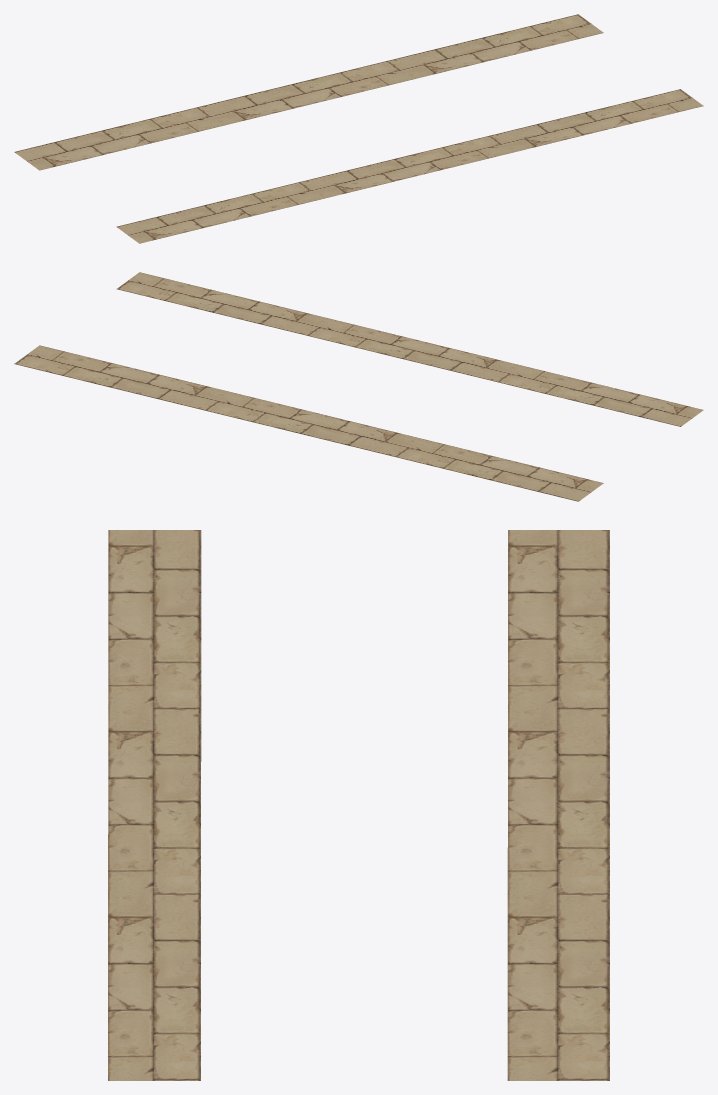
Rendered from Ground20_Build_LostTemple_002.FBX.
3 renders of one model, top to bottom at view 1: azimuth 30°, elevation 25°; view 2: azimuth 150°, elevation 25°; view 3: azimuth 270°, elevation 25°, orthographic. The views are drawn at different scales.
Visible parts, largest first — view 1: Ground20_Build_LostTemple_002; view 2: Ground20_Build_LostTemple_002; view 3: Ground20_Build_LostTemple_002.
Part boxes in pixels (x1=…): Ground20_Build_LostTemple_002: x1=14, y1=14, x2=703, y2=243; Ground20_Build_LostTemple_002: x1=14, y1=272, x2=703, y2=501; Ground20_Build_LostTemple_002: x1=108, y1=530, x2=609, y2=1080.
Bounding box in the file's own units: 1733 × 0.0944 × 667.
Materials: 1 (1 with a texture image).
